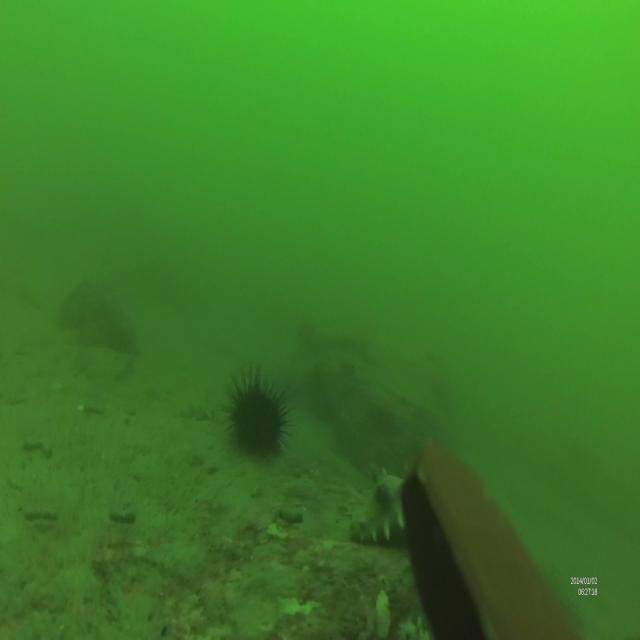echinus: (221, 360, 293, 463)
holothurian: (346, 464, 470, 554)
